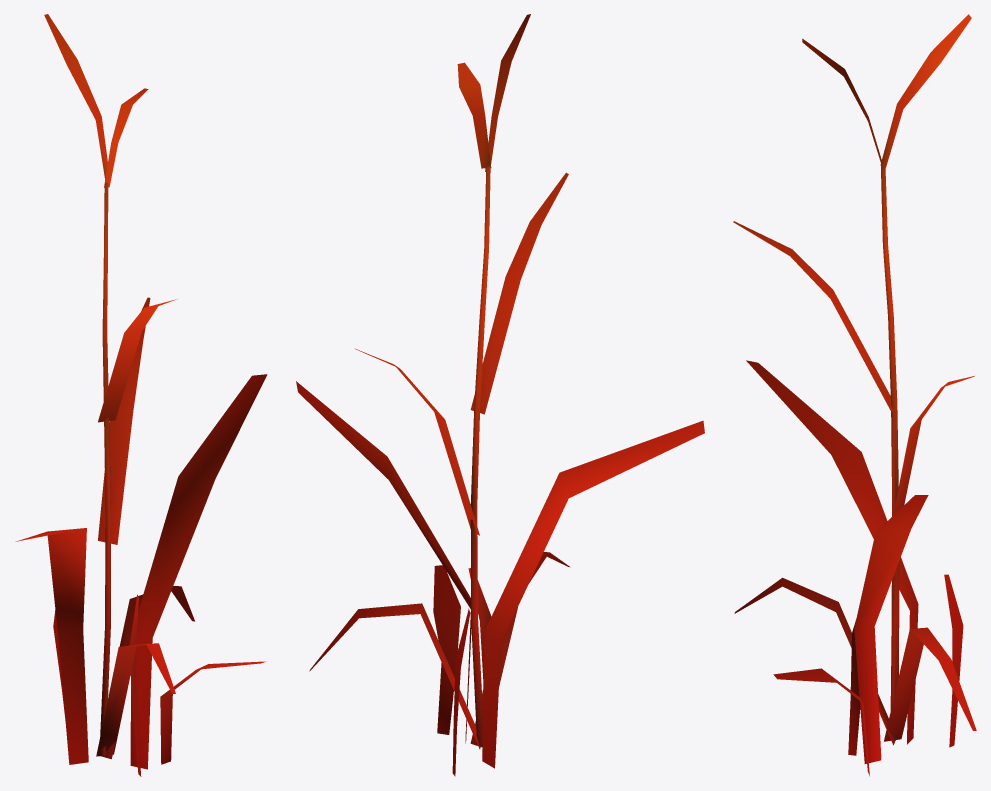
Rendered from SM_OatPlant_6.fbx.
3 renders of one model, left to right at view 1: azimuth 30°, elevation 25°; view 2: azimuth 150°, elevation 25°; view 3: azimuth 270°, elevation 25°, orthographic.
Parts seen in each view (by area): view 1: SM_OatPlant_6; view 2: SM_OatPlant_6; view 3: SM_OatPlant_6.
Boxes of the visible parts, box(x1,y1,x2,y2) form: SM_OatPlant_6: box(15, 14, 267, 776); SM_OatPlant_6: box(296, 14, 704, 776); SM_OatPlant_6: box(733, 14, 976, 776).
Bounding box in the file's own units: 0.3128 × 0.6562 × 0.1998.
